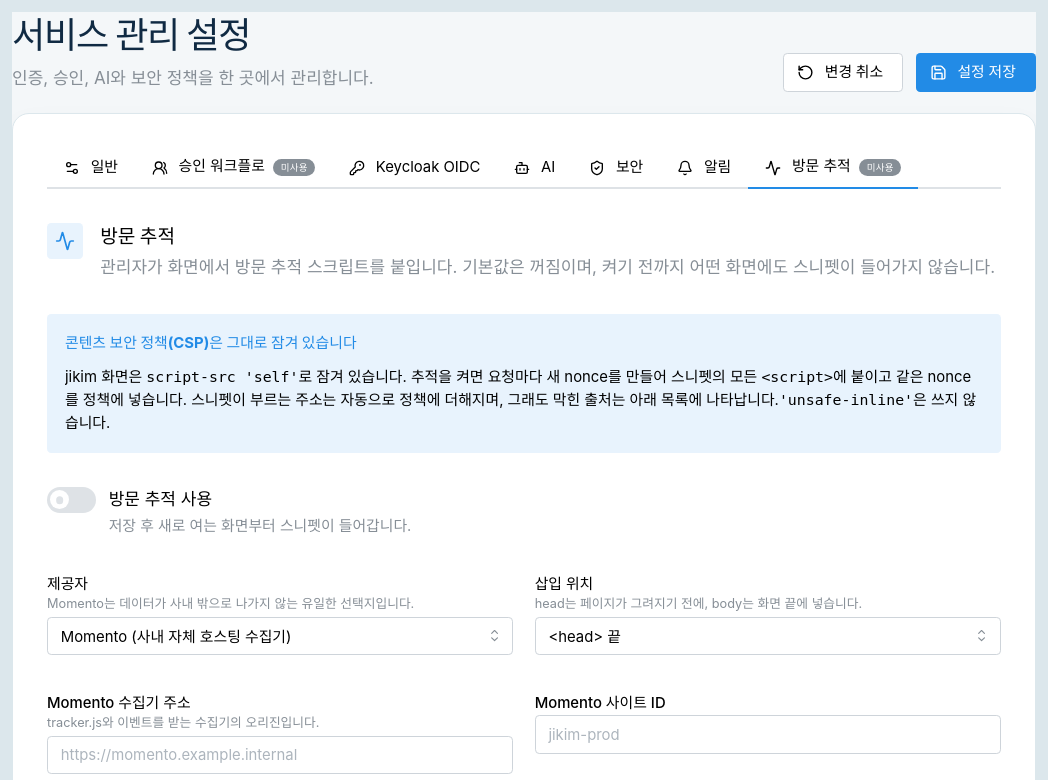
Test: AdminSettingsPage tracking tab › refuses to save a Momento setup that is switched on without a collector
Click the switch labelled "방문 추적 사용 저장 후 새로 여는 화면부터 스니펫이 들어갑니다.". click: coordinates (71, 500)
box: top-left (47, 487), bottom-right (411, 535)
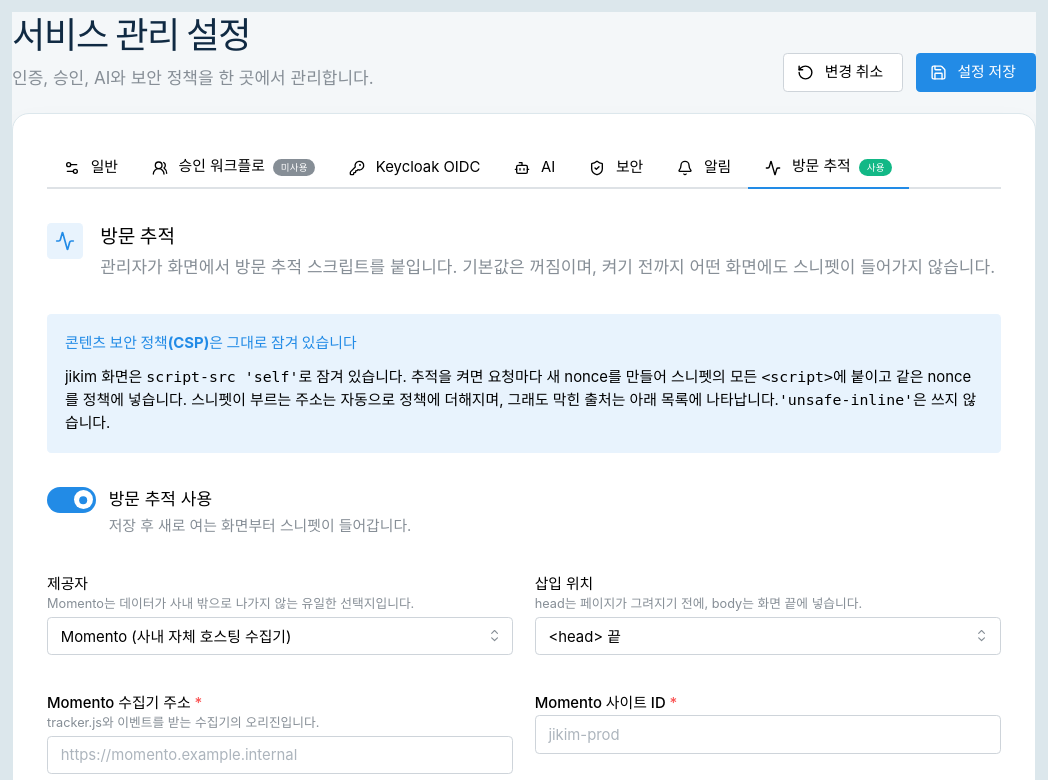
Click the button "설정 저장". click: coordinates (976, 73)
box: top-left (916, 53), bottom-right (1036, 92)
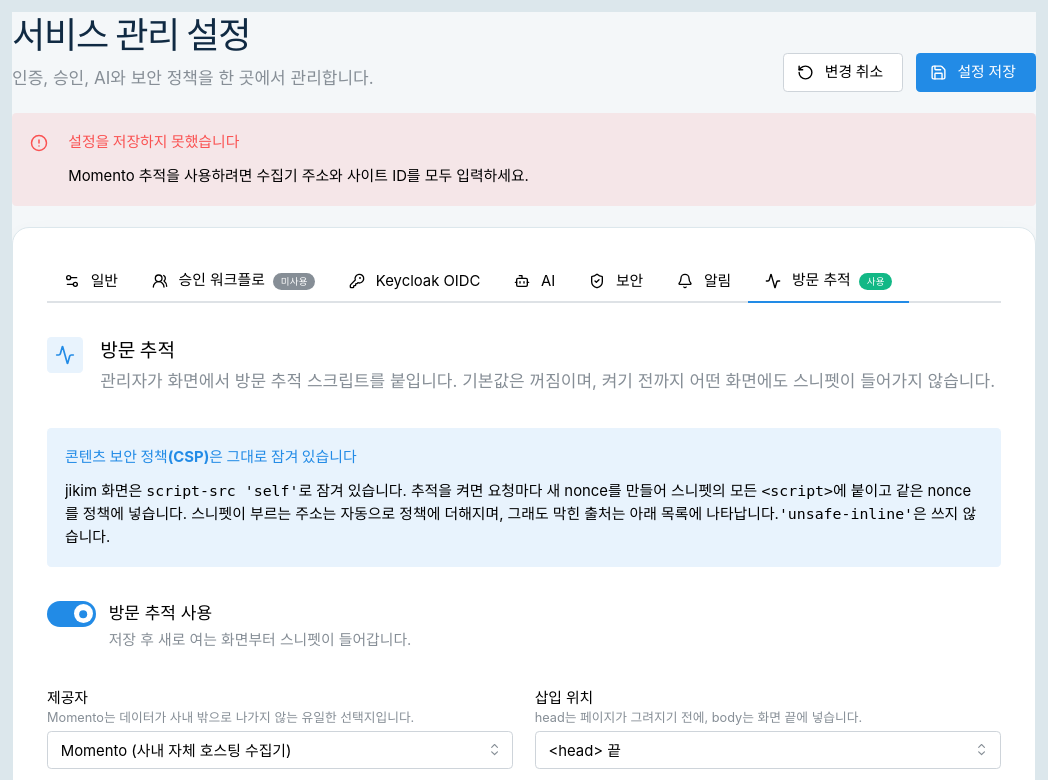
Now the text "Momento 추적을 사용하려면 수집기 주소와 사이트 ID를 모두 입력하세요." is shown, box top-left (68, 167), bottom-right (529, 185)
